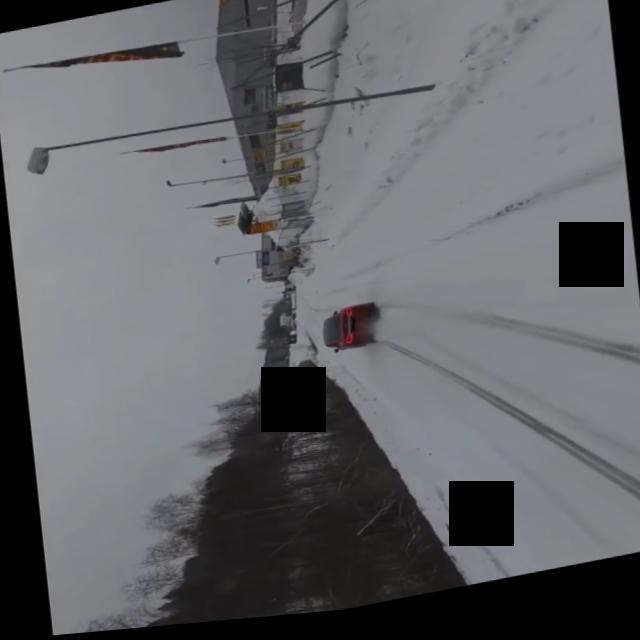Pole: (23, 78, 440, 178), (206, 236, 331, 272)
Vehicle: (312, 305, 382, 363)
